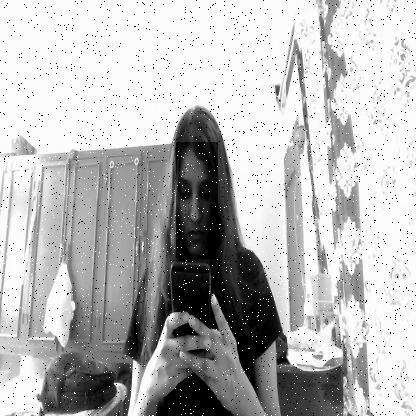Normal: (176, 142, 218, 259)
